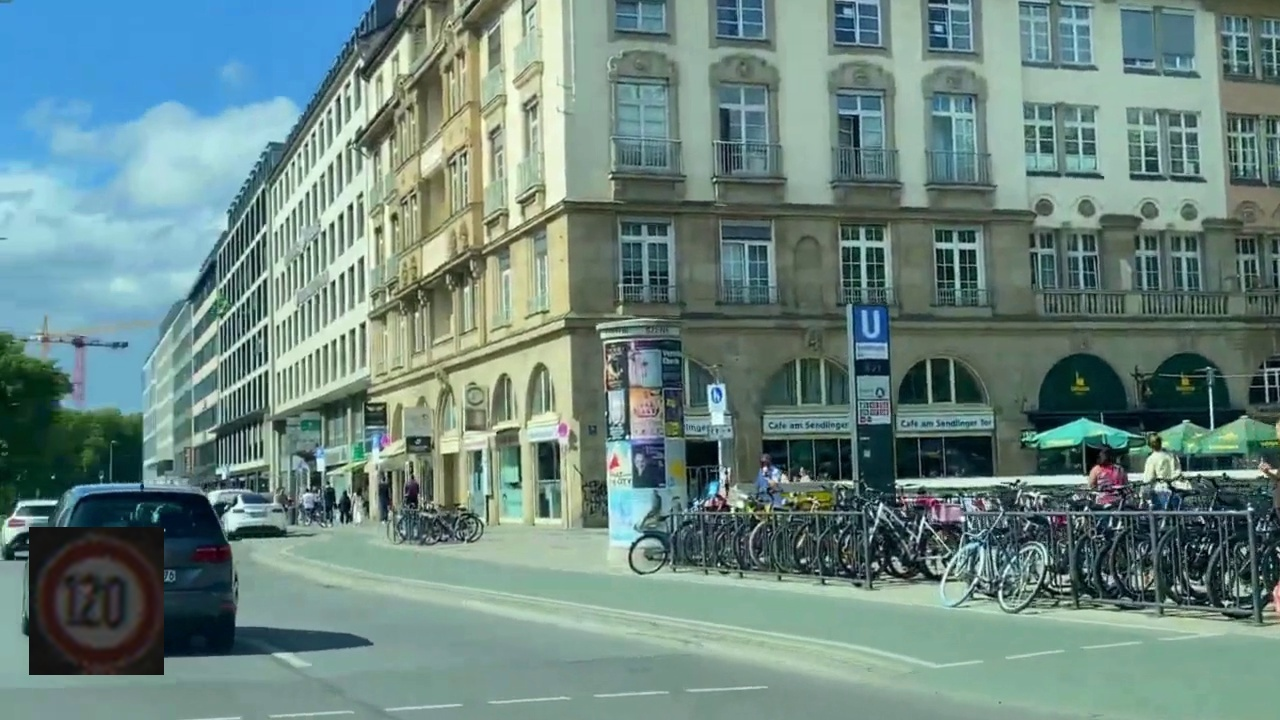Speed 120: (29, 527, 164, 675)
